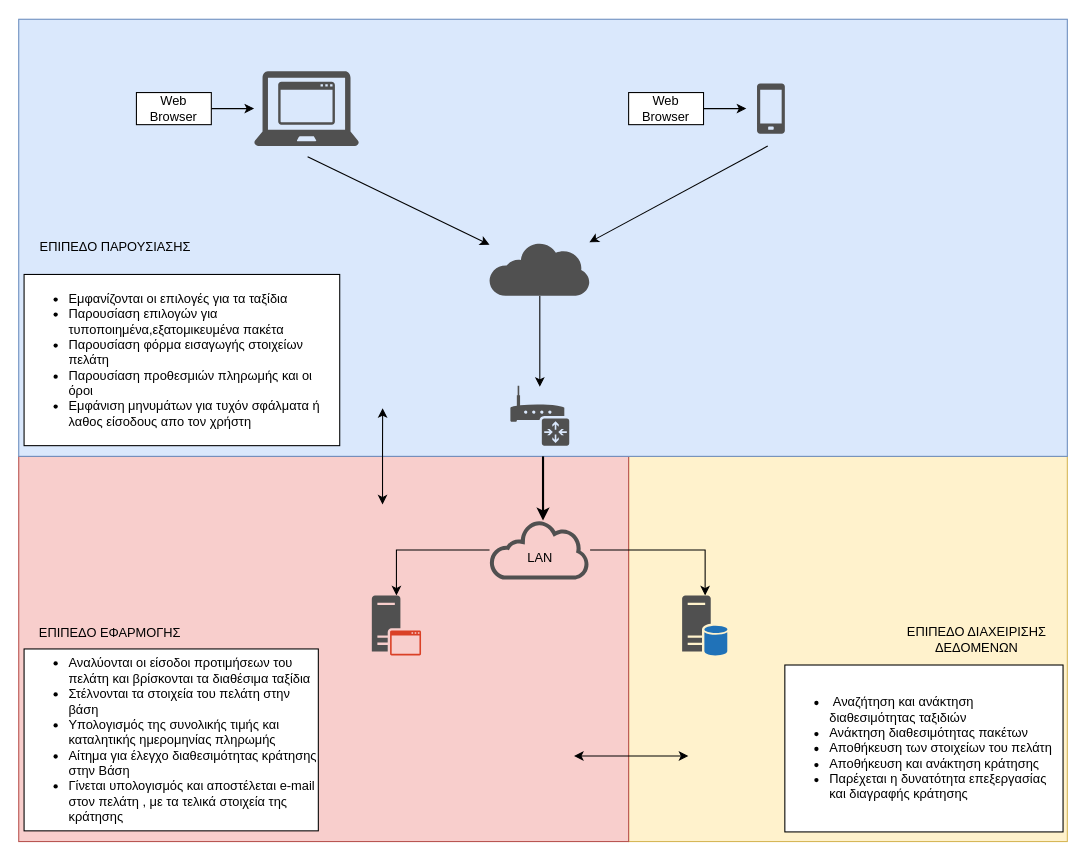
This 1086x860 diagram has some shape labels left out. The shapes that lost their labels are listed below. From the top down, each one's box as (x1, y1, x2, y2) in pixels, then its label:
(371, 595, 421, 655): Application Server (Εφαρμογή Ιστοσελίδας)
(682, 595, 728, 655): Database Server Βάση Δεδομένων Στοιχείων Πελατών Κρατήσεων και Πακέτων
